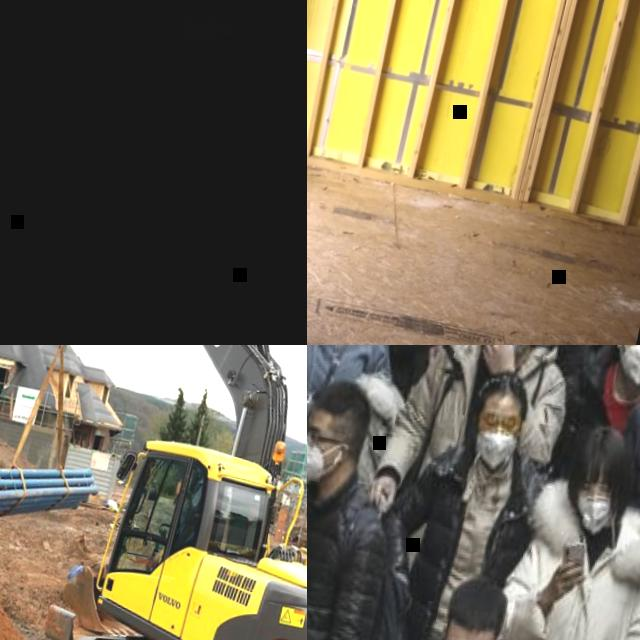Mask: (472, 426, 521, 474), (573, 495, 613, 537), (307, 438, 333, 491), (612, 345, 640, 386), (478, 345, 533, 358)
NO-Hardhat: (444, 572, 514, 640), (569, 418, 635, 487), (309, 372, 380, 429), (477, 363, 534, 414)
NO-Safety Vest: (496, 529, 640, 640), (307, 485, 379, 640), (596, 390, 640, 640), (562, 365, 640, 457)
Person: (363, 350, 564, 640), (373, 345, 596, 588), (466, 408, 640, 640), (307, 357, 426, 640), (554, 345, 640, 640), (307, 345, 426, 514), (546, 345, 640, 509), (369, 562, 516, 640), (444, 345, 619, 400), (151, 484, 202, 575)
Safety Vest: (177, 502, 200, 539)
vehicle: (0, 345, 307, 640)
